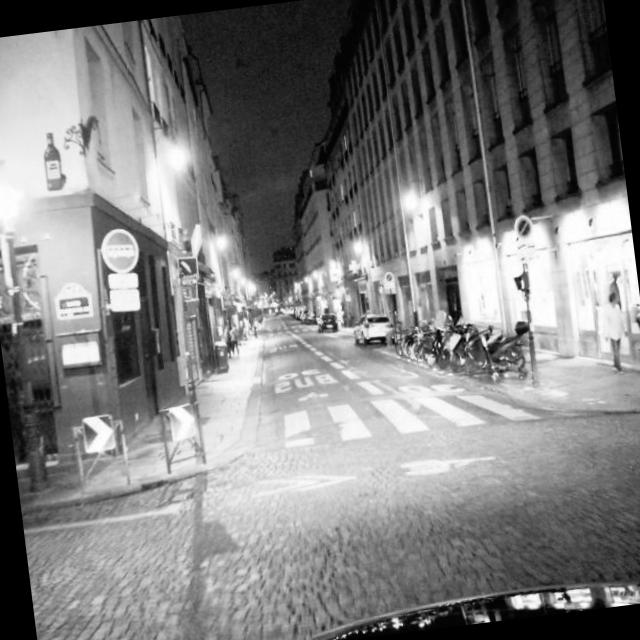Motorcycle: (462, 325, 524, 382)
Sign: (98, 227, 141, 276), (80, 414, 116, 452), (168, 402, 198, 441), (108, 287, 142, 313), (106, 270, 139, 290), (513, 214, 534, 241)
